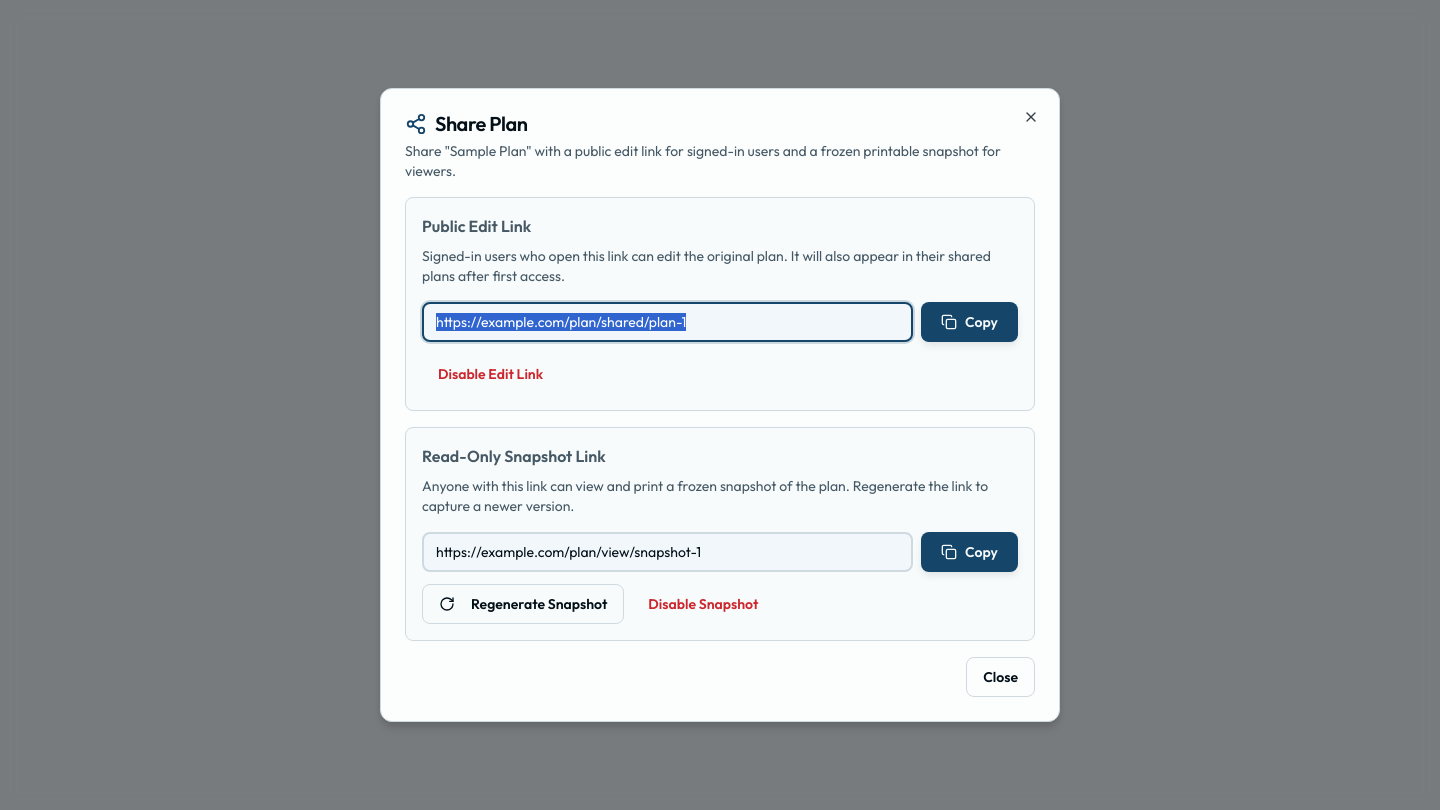
Test: SharePlanModal › shows active links and regenerates the snapshot link when requested
Check: the 1st field showing "https://example.com/plan/shared/plan-1" is shown, box x1=422 y1=302 x2=913 y2=342
Check: the field showing "https://example.com/plan/view/snapshot-1" below "Read-Only Snapshot Link" is shown, box x1=422 y1=532 x2=913 y2=572
Click the button "Regenerate Snapshot": [523, 604] box x1=422 y1=584 x2=624 y2=624
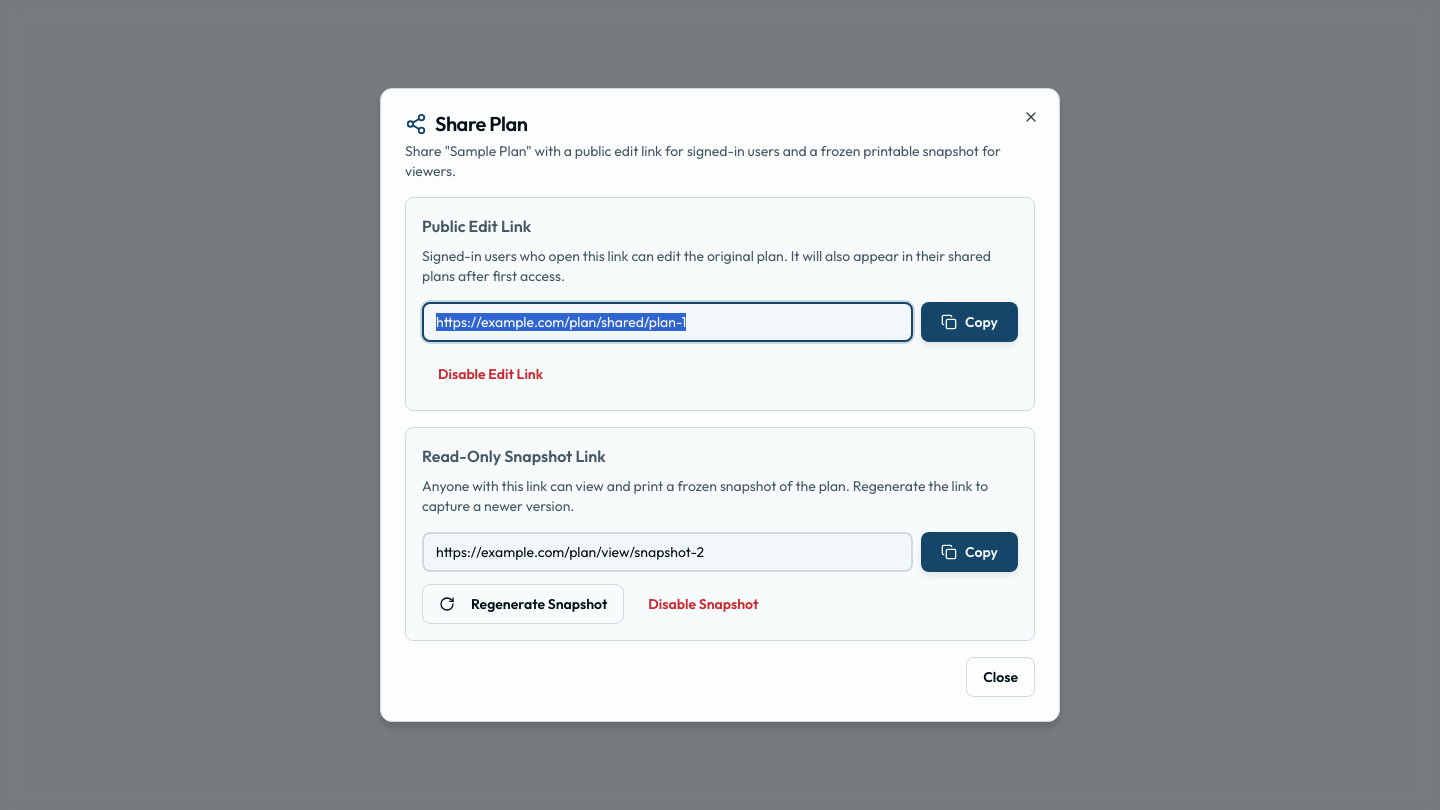
Check: the field showing "https://example.com/plan/view/snapshot-2" below "Read-Only Snapshot Link" is shown, box x1=422 y1=532 x2=913 y2=572
